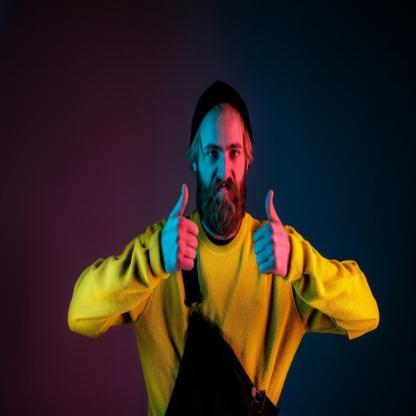thumb_up: (251, 185, 292, 282), (162, 180, 200, 276)
